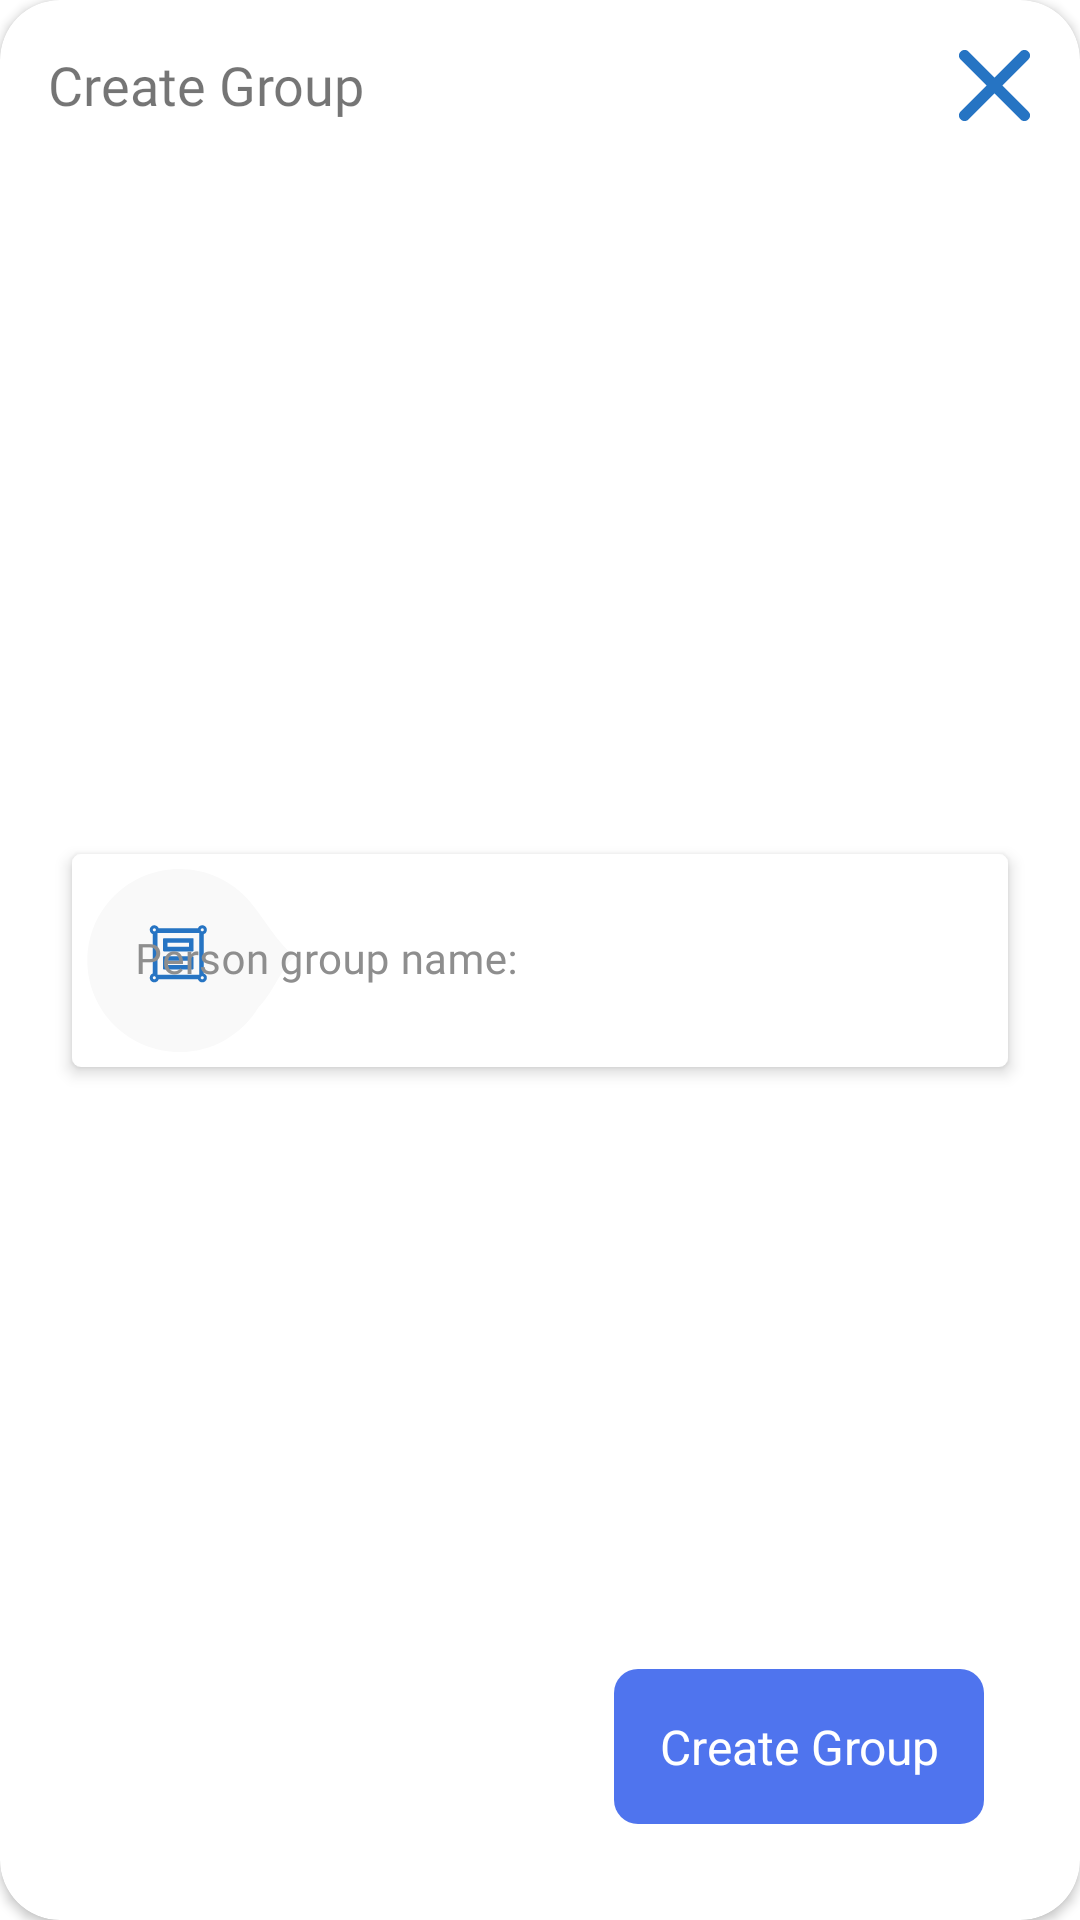

Icon bounding boxes for this 1080px x 1920px phone screenshot, format [x1=x1, y1=y1, x2=x2, y2=y2]:
close: [x1=959, y1=50, x2=1030, y2=121]
